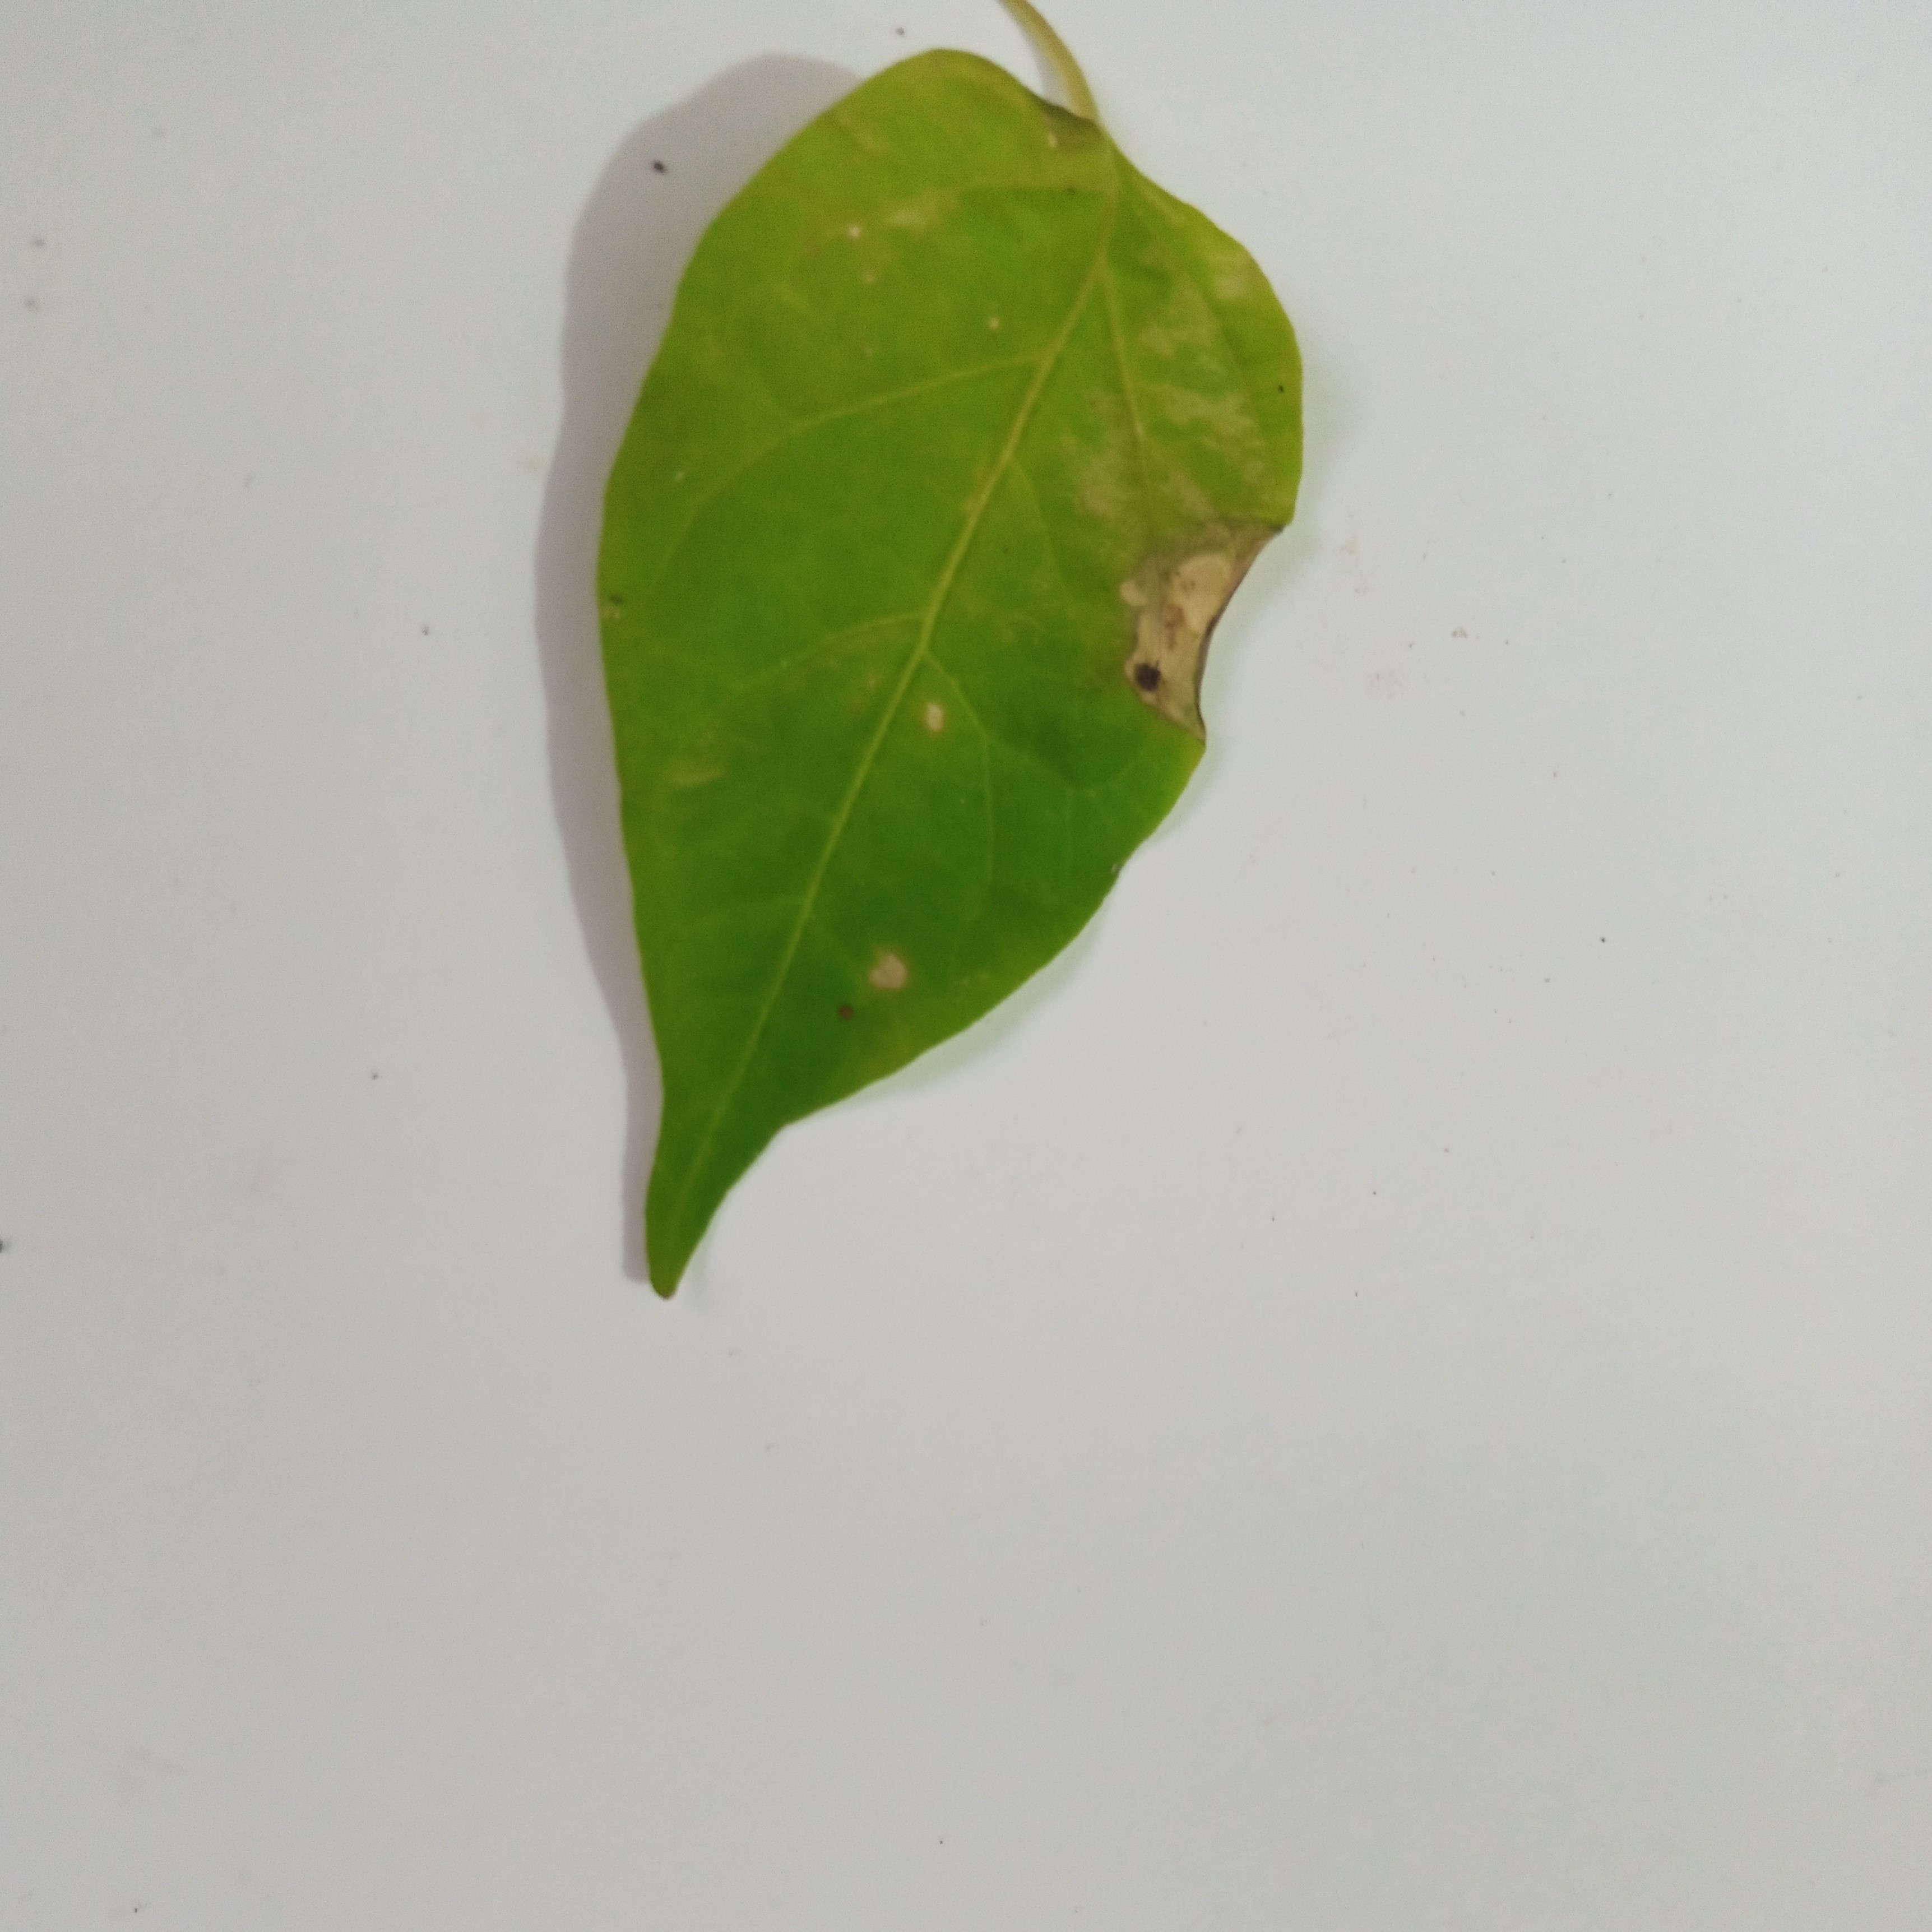Leaf: (441, 34, 1384, 1323)
